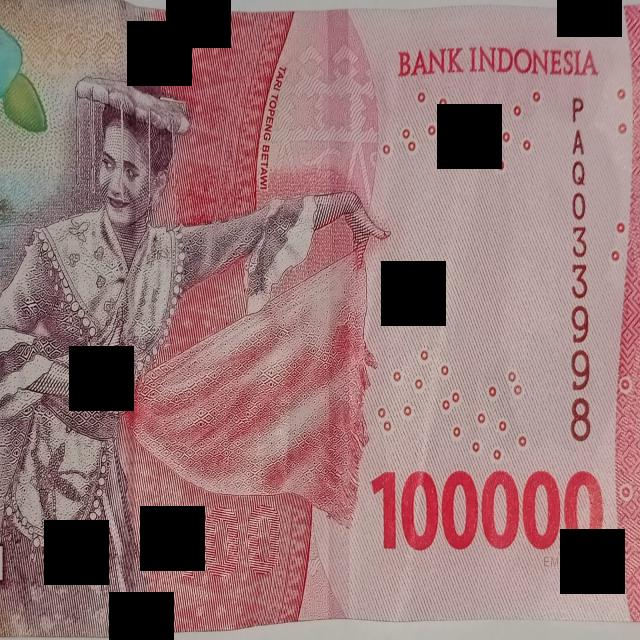seratusribu rupiah: (0, 2, 640, 634)
